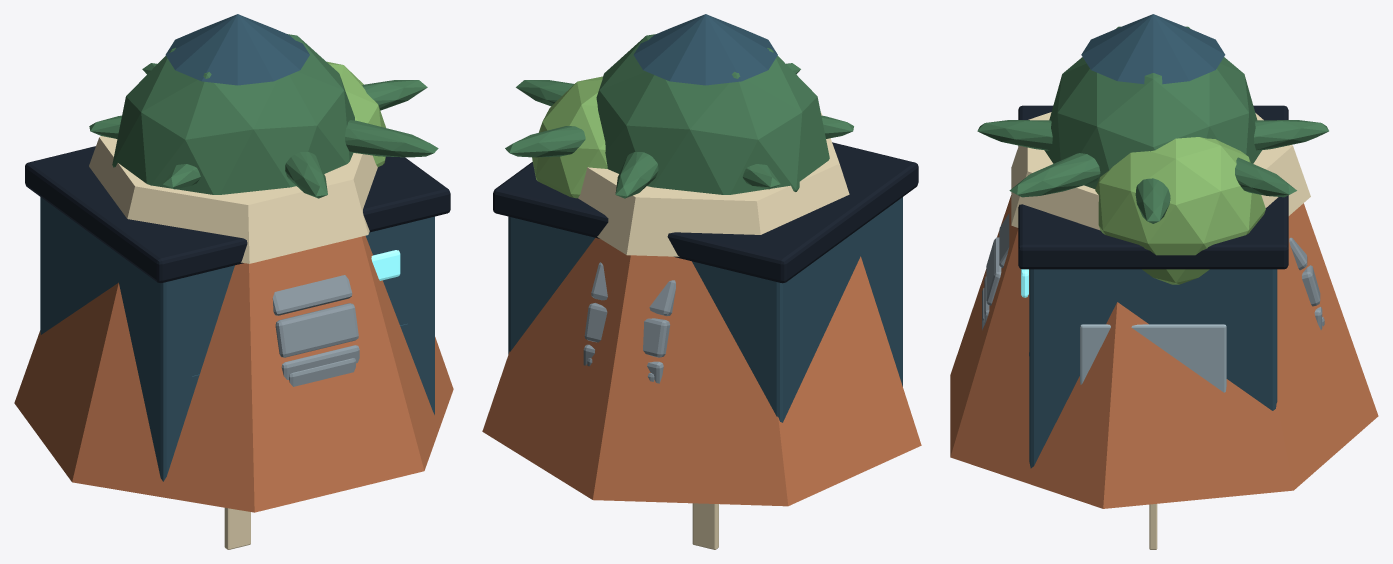
Rendered from worldkit.glb.
The picture shows the model from 3 angles, left to right: view 1: azimuth 30°, elevation 25°; view 2: azimuth 150°, elevation 25°; view 3: azimuth 270°, elevation 25°; orthographic projection.
Visible parts, largest first — view 1: PROP_mesa_mesh, PROP_warehouse_mesh, PROP_oak_mesh, PROP_tunnel_portal_mesh, PROP_lighthouse_mesh, PROP_palm_mesh, ANIM_rotor_mesh; view 2: PROP_mesa_mesh, PROP_warehouse_mesh, PROP_oak_mesh, PROP_lighthouse_mesh, PROP_palm_mesh, PROP_tunnel_portal_mesh, ANIM_rotor_mesh; view 3: PROP_mesa_mesh, PROP_warehouse_mesh, PROP_oak_mesh, PROP_palm_mesh, PROP_lighthouse_mesh, PROP_tunnel_portal_mesh.
Boxes of the visible parts, <box> form: PROP_mesa_mesh: <box>14,136,453,512</box>; PROP_warehouse_mesh: <box>25,146,450,481</box>; PROP_oak_mesh: <box>112,34,385,194</box>; PROP_tunnel_portal_mesh: <box>272,275,359,386</box>; PROP_lighthouse_mesh: <box>165,14,309,85</box>; PROP_palm_mesh: <box>89,63,438,198</box>; ANIM_rotor_mesh: <box>224,508,250,549</box>; PROP_mesa_mesh: <box>482,112,921,506</box>; PROP_warehouse_mesh: <box>493,142,918,422</box>; PROP_oak_mesh: <box>532,34,829,198</box>; PROP_lighthouse_mesh: <box>633,14,777,85</box>; PROP_palm_mesh: <box>505,63,853,198</box>; PROP_tunnel_portal_mesh: <box>583,262,675,383</box>; ANIM_rotor_mesh: <box>692,503,718,549</box>; PROP_mesa_mesh: <box>950,112,1378,508</box>; PROP_warehouse_mesh: <box>1018,105,1288,468</box>; PROP_oak_mesh: <box>1044,26,1265,284</box>; PROP_palm_mesh: <box>977,120,1328,223</box>; PROP_lighthouse_mesh: <box>1081,14,1225,84</box>; PROP_tunnel_portal_mesh: <box>982,213,1324,330</box>.
Bounding box in the file's own units: 1.95 × 2.6 × 1.9.
